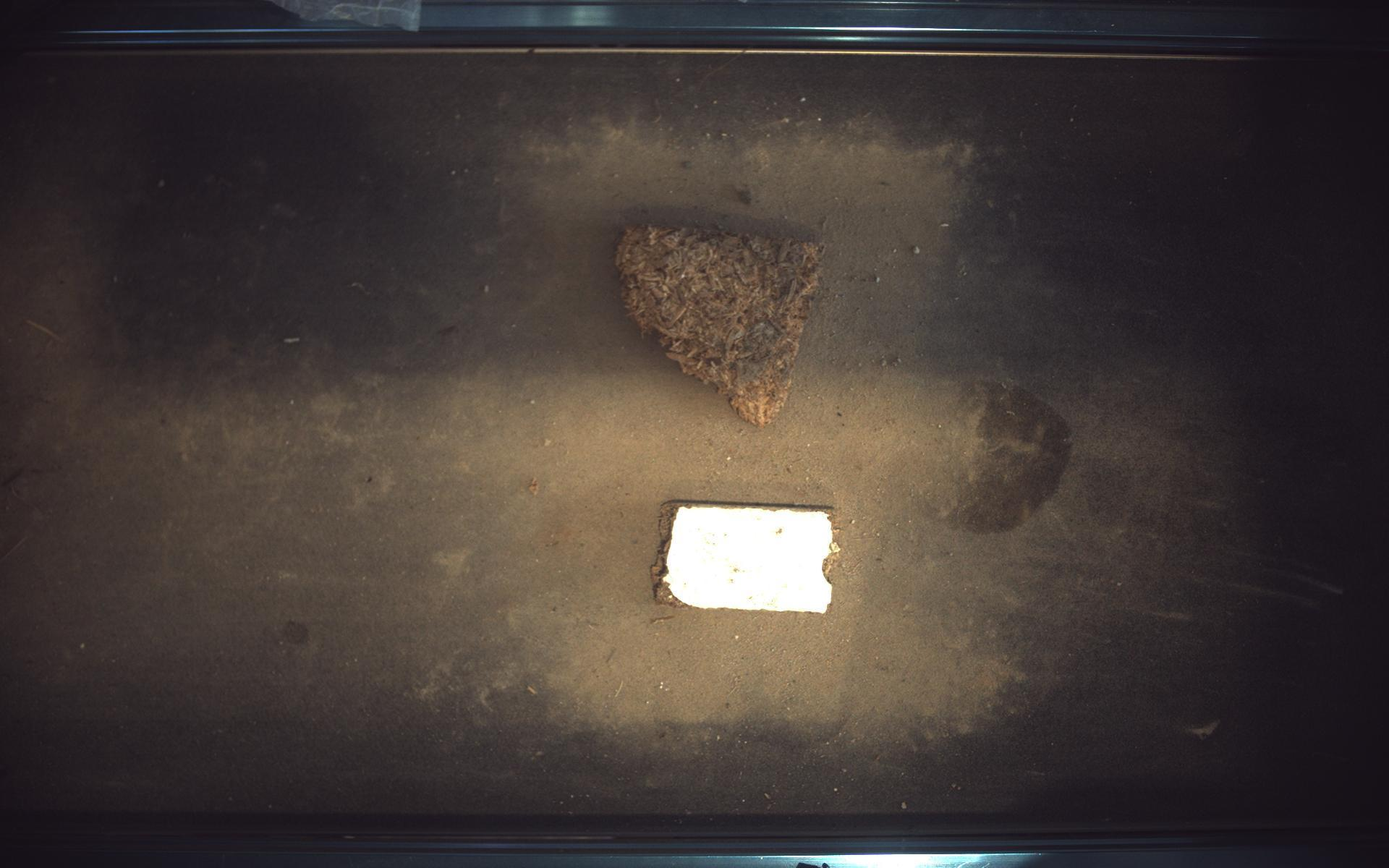wood: (616, 225, 824, 427), (653, 501, 841, 614)
